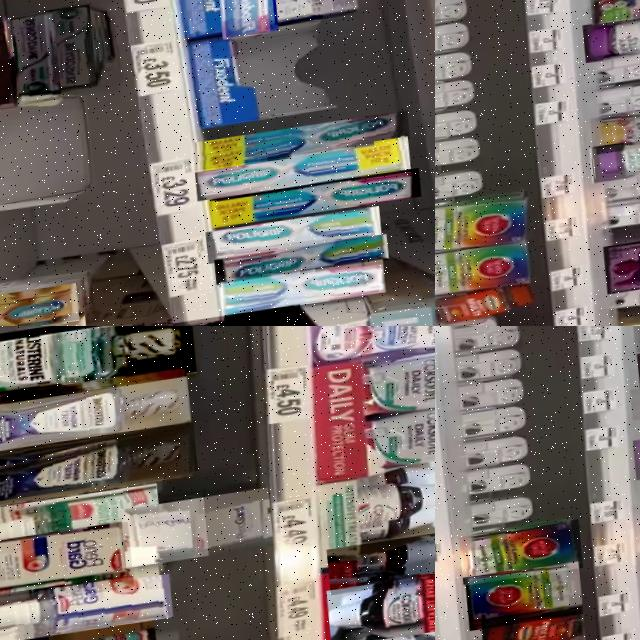Mouthwash: (0, 371, 193, 462), (0, 422, 199, 506), (0, 326, 198, 409), (0, 326, 190, 353), (100, 306, 308, 326)
Other: (0, 484, 163, 560), (0, 521, 137, 609), (0, 574, 176, 640), (325, 397, 435, 487), (334, 340, 435, 427), (459, 522, 585, 588), (465, 564, 586, 632), (315, 474, 435, 540), (326, 574, 435, 640), (326, 534, 435, 597), (305, 326, 435, 377), (435, 192, 535, 258), (120, 498, 212, 569), (435, 239, 533, 303), (188, 489, 276, 559), (439, 281, 540, 326), (481, 606, 588, 640), (0, 620, 161, 640), (580, 13, 640, 65), (587, 136, 640, 187), (589, 107, 640, 158), (603, 234, 640, 297)
Toothpaste: (193, 114, 412, 175), (196, 143, 413, 204), (211, 171, 424, 230), (206, 209, 385, 266), (221, 263, 389, 319), (216, 237, 392, 290), (5, 15, 65, 107), (42, 5, 100, 94), (0, 284, 82, 326), (0, 17, 21, 117)
